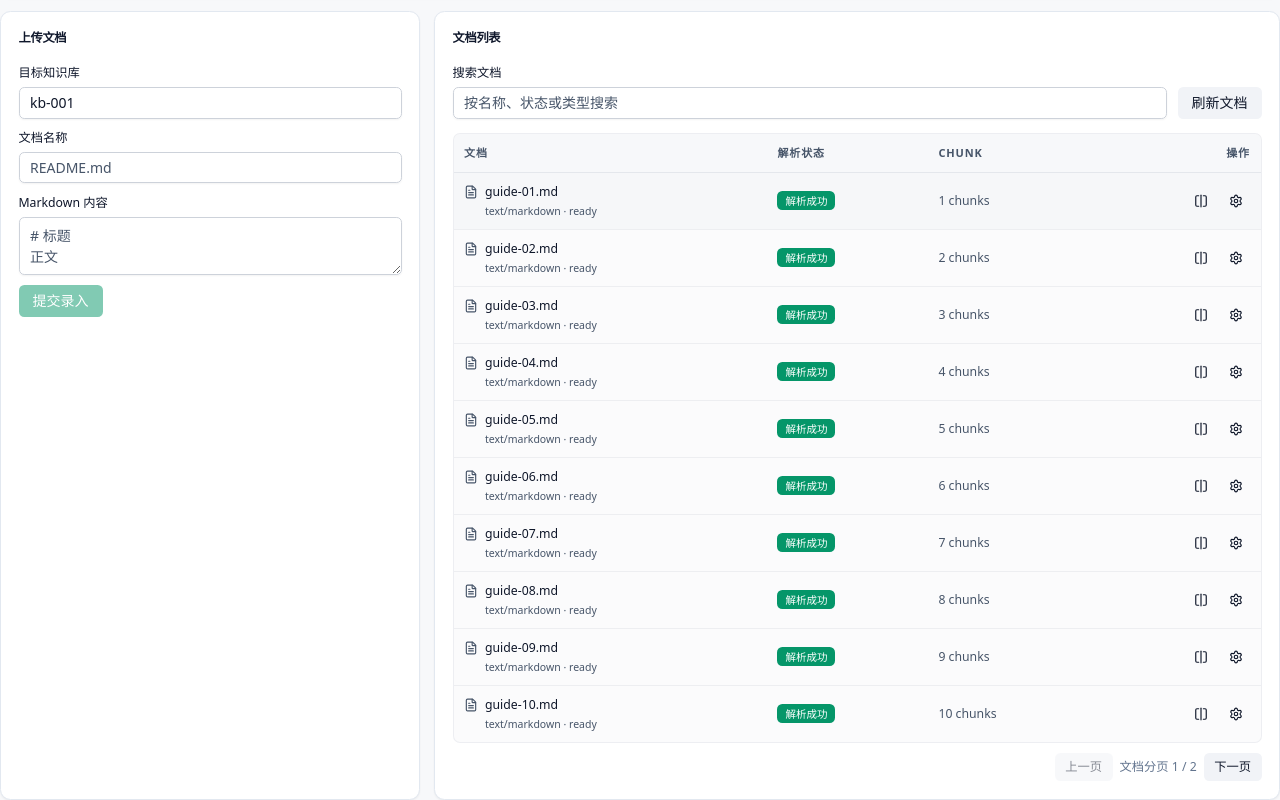
knowledge base pages › paginates and filters long document lists
(page scrolled)
Expected: the text "guide-01.md" is shown, [485,183,558,200]
Expected: the text "文档分页 1 / 2" is shown, [1120,758,1197,776]
Click the button with aria-label "下一页文档". click: [1233, 767]
box: [1204,753,1262,781]
(page scrolled)
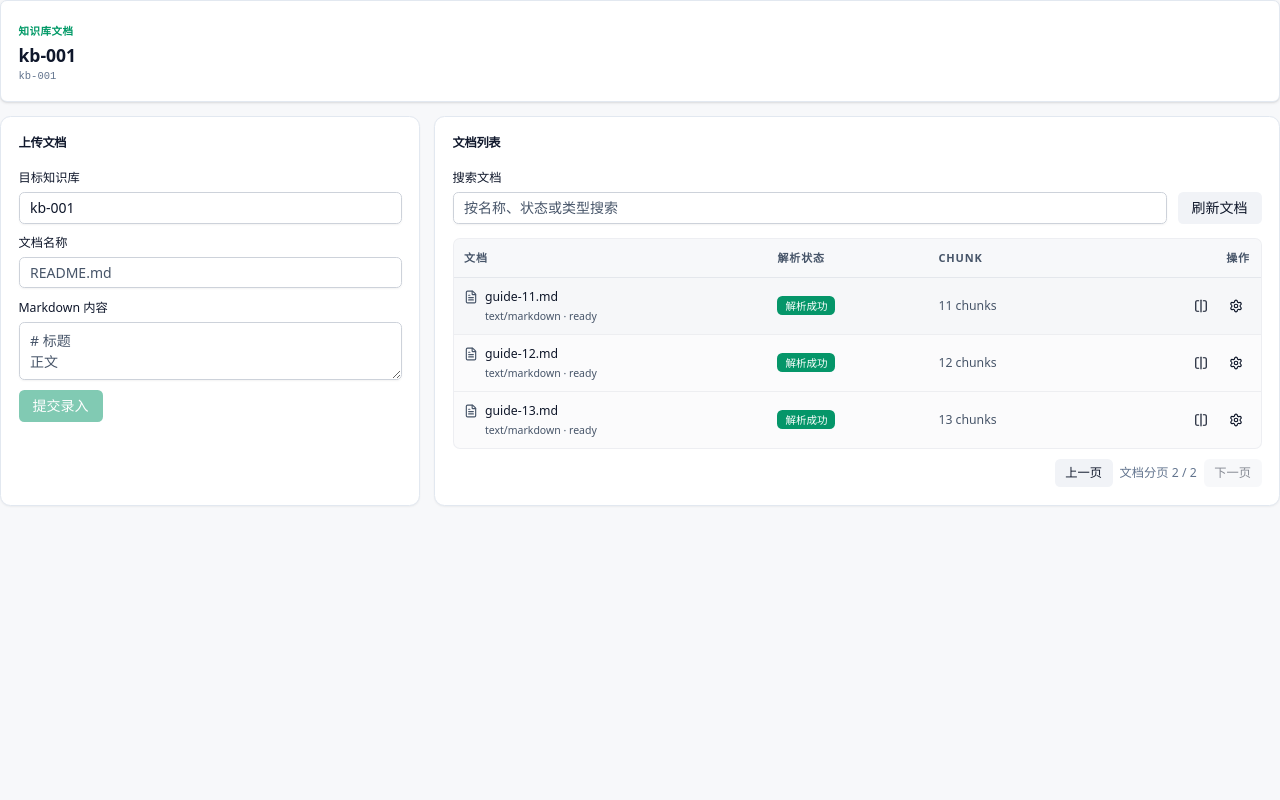
Result: the text "guide-11.md" is shown at [485,288,558,305]
Result: the text "guide-01.md" is gone
Type "guide-13" into the field labelled "搜索文档". click: [810, 208]
box: [452,192,1167,224]
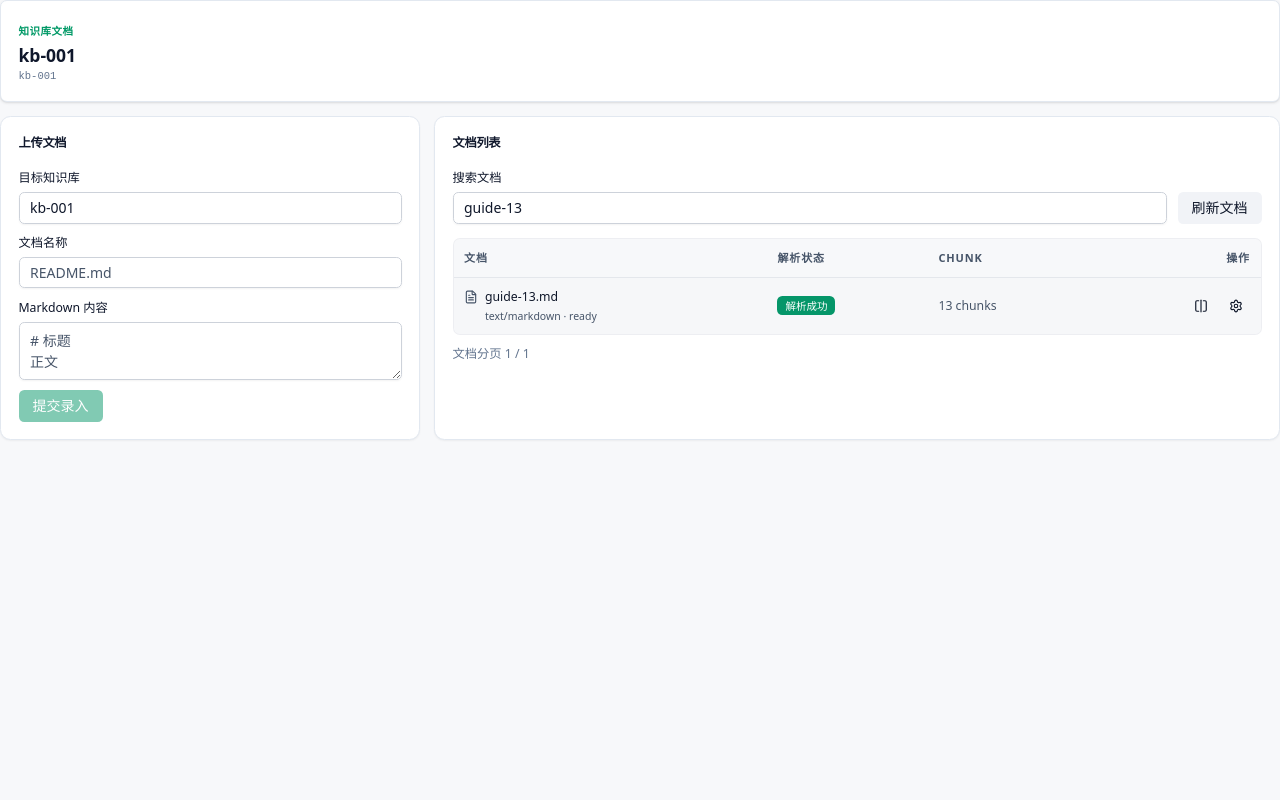
Result: the text "guide-13.md" is shown at [485,288,558,305]
Result: the text "guide-12.md" is gone
Result: the text "文档分页 1 / 1" is shown at [452,345,530,362]
